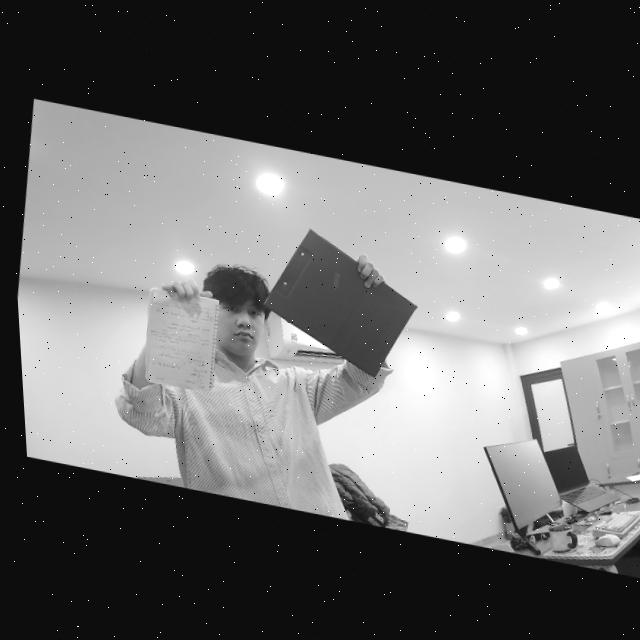document: (145, 287, 219, 391)
face: (213, 269, 268, 364)
